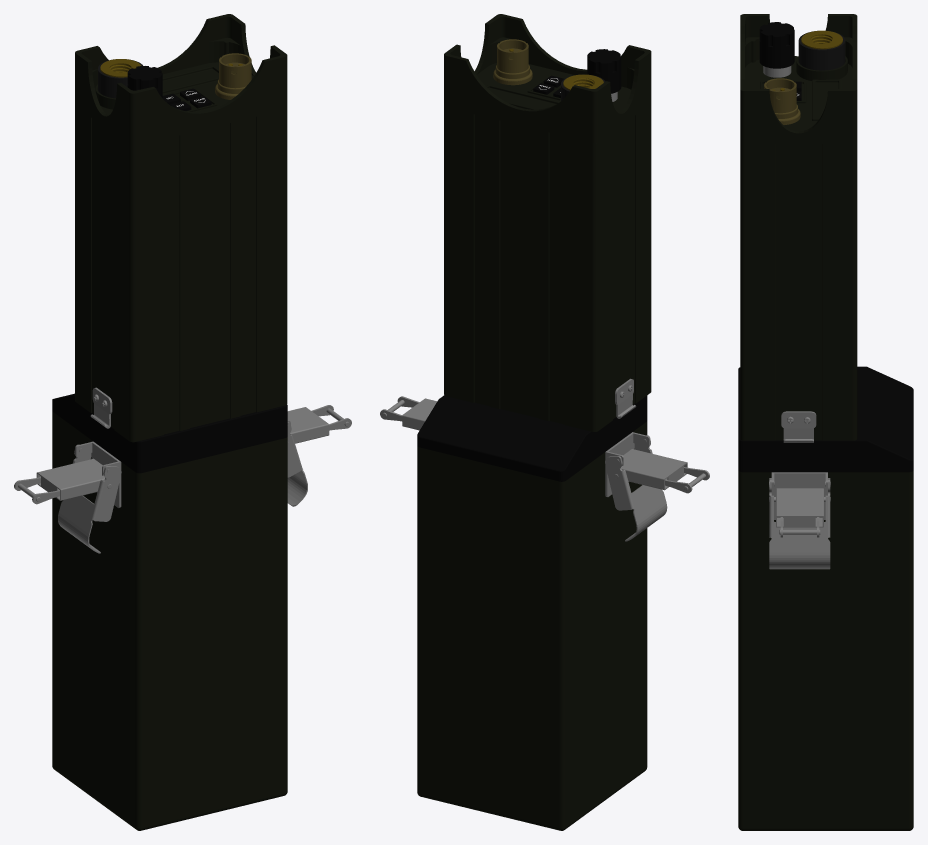
The model's file is qmac.fbx.
3 renders of one model, left to right at view 1: azimuth 30°, elevation 25°; view 2: azimuth 150°, elevation 25°; view 3: azimuth 270°, elevation 25°, orthographic. The views are drawn at different scales.
Parts seen in each view (by area): view 1: Shape_IndexedFaceSet.001, Shape_IndexedFaceSet.011, Shape_IndexedFaceSet.043, Shape_IndexedFaceSet.002, Shape_IndexedFaceSet.003, Shape_IndexedFaceSet.005, Shape_IndexedFaceSet.009, Shape_IndexedFaceSet.007, Shape_IndexedFaceSet.042, Shape_IndexedFaceSet.036, Shape_IndexedFaceSet.004, Shape_IndexedFaceSet.027; view 2: Shape_IndexedFaceSet.001, Shape_IndexedFaceSet.011, Shape_IndexedFaceSet.043, Shape_IndexedFaceSet.002, Shape_IndexedFaceSet.003, Shape_IndexedFaceSet.005, Shape_IndexedFaceSet.036, Shape_IndexedFaceSet.009, Shape_IndexedFaceSet.042, Shape_IndexedFaceSet.004; view 3: Shape_IndexedFaceSet.001, Shape_IndexedFaceSet.011, Shape_IndexedFaceSet.002, Shape_IndexedFaceSet.043, Shape_IndexedFaceSet.007, Shape_IndexedFaceSet.009, Shape_IndexedFaceSet.036, Shape_IndexedFaceSet.028, Shape_IndexedFaceSet.008, Shape_IndexedFaceSet.026, Shape_IndexedFaceSet.042, Shape_IndexedFaceSet.030 (+1 smaller).
Part boxes in pixels (left/top/right/bottom): Shape_IndexedFaceSet.001: left=52, top=411, right=287, bottom=830; Shape_IndexedFaceSet.011: left=75, top=105, right=287, bottom=442; Shape_IndexedFaceSet.043: left=75, top=14, right=287, bottom=146; Shape_IndexedFaceSet.002: left=52, top=393, right=287, bottom=473; Shape_IndexedFaceSet.003: left=58, top=444, right=121, bottom=553; Shape_IndexedFaceSet.005: left=14, top=458, right=104, bottom=504; Shape_IndexedFaceSet.009: left=287, top=405, right=351, bottom=443; Shape_IndexedFaceSet.007: left=287, top=422, right=307, bottom=506; Shape_IndexedFaceSet.042: left=219, top=53, right=251, bottom=88; Shape_IndexedFaceSet.036: left=127, top=66, right=162, bottom=97; Shape_IndexedFaceSet.004: left=75, top=441, right=121, bottom=507; Shape_IndexedFaceSet.027: left=90, top=387, right=112, bottom=428; Shape_IndexedFaceSet.001: left=417, top=421, right=647, bottom=830; Shape_IndexedFaceSet.011: left=444, top=104, right=651, bottom=431; Shape_IndexedFaceSet.043: left=444, top=14, right=651, bottom=143; Shape_IndexedFaceSet.002: left=417, top=395, right=647, bottom=481; Shape_IndexedFaceSet.003: left=605, top=435, right=667, bottom=541; Shape_IndexedFaceSet.005: left=621, top=449, right=709, bottom=493; Shape_IndexedFaceSet.036: left=587, top=49, right=621, bottom=93; Shape_IndexedFaceSet.009: left=380, top=396, right=437, bottom=430; Shape_IndexedFaceSet.042: left=497, top=39, right=528, bottom=73; Shape_IndexedFaceSet.004: left=605, top=432, right=650, bottom=496; Shape_IndexedFaceSet.001: left=738, top=471, right=913, bottom=830; Shape_IndexedFaceSet.011: left=740, top=142, right=857, bottom=440; Shape_IndexedFaceSet.002: left=738, top=366, right=913, bottom=472; Shape_IndexedFaceSet.043: left=740, top=14, right=857, bottom=143; Shape_IndexedFaceSet.007: left=769, top=478, right=830, bottom=569; Shape_IndexedFaceSet.009: left=776, top=488, right=823, bottom=537; Shape_IndexedFaceSet.036: left=759, top=22, right=794, bottom=68; Shape_IndexedFaceSet.028: left=798, top=30, right=845, bottom=70; Shape_IndexedFaceSet.008: left=771, top=472, right=827, bottom=519; Shape_IndexedFaceSet.026: left=781, top=411, right=816, bottom=442; Shape_IndexedFaceSet.042: left=764, top=78, right=796, bottom=113; Shape_IndexedFaceSet.030: left=801, top=30, right=842, bottom=49.
Bounding box in the file's own units: 15787 × 35000 × 7500.
